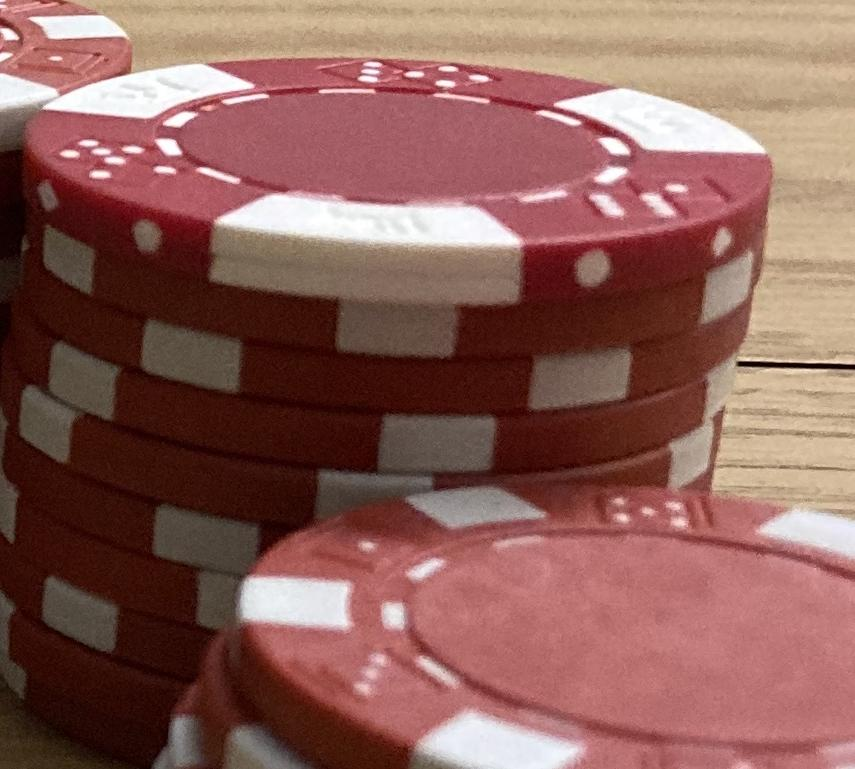Chip: (1, 1, 855, 769)
